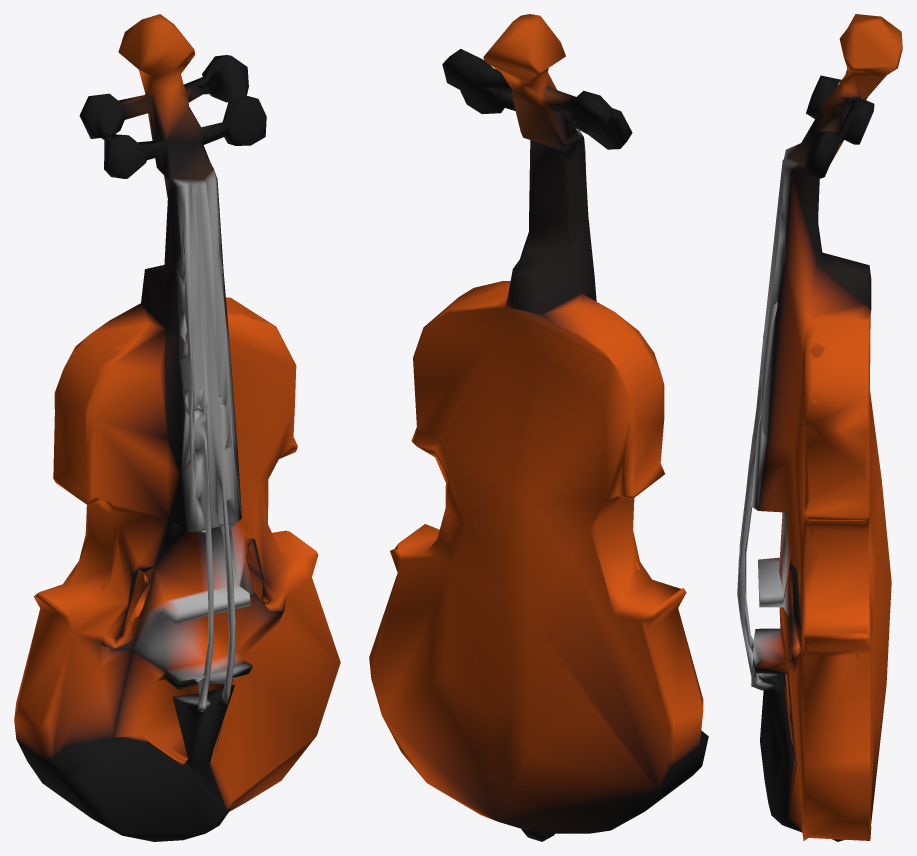
File: gen3d-violin-lod1.glb
3 views of the same model, side by side, from view 1: azimuth 30°, elevation 25°; view 2: azimuth 150°, elevation 25°; view 3: azimuth 270°, elevation 25° (orthographic). The views are drawn at different scales.
Parts seen in each view (by area): view 1: part_0; view 2: part_0; view 3: part_0.
Boxes of the visible parts, <box> form: part_0: <box>14,14,340,841</box>; part_0: <box>369,14,708,841</box>; part_0: <box>737,14,902,841</box>.
Bounding box in the file's own units: 0.387 × 0.9981 × 0.1832.
